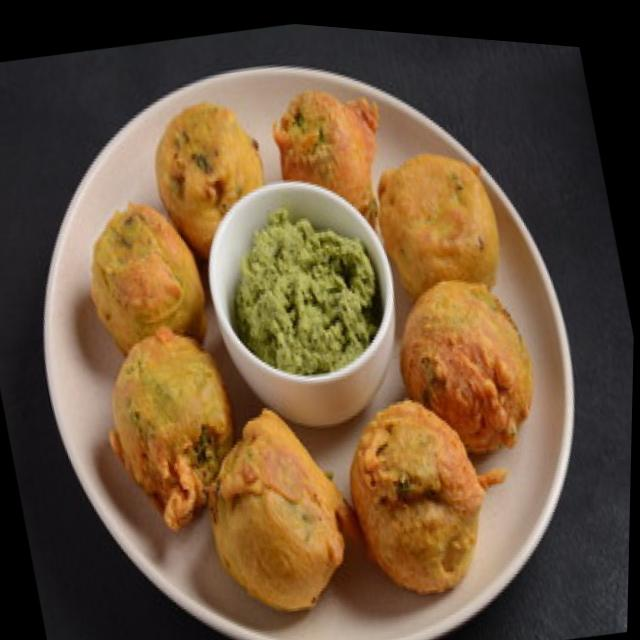BONDA: (92, 117, 532, 611), (275, 90, 377, 213)
GREEN CHUTNEY: (234, 206, 377, 369)
